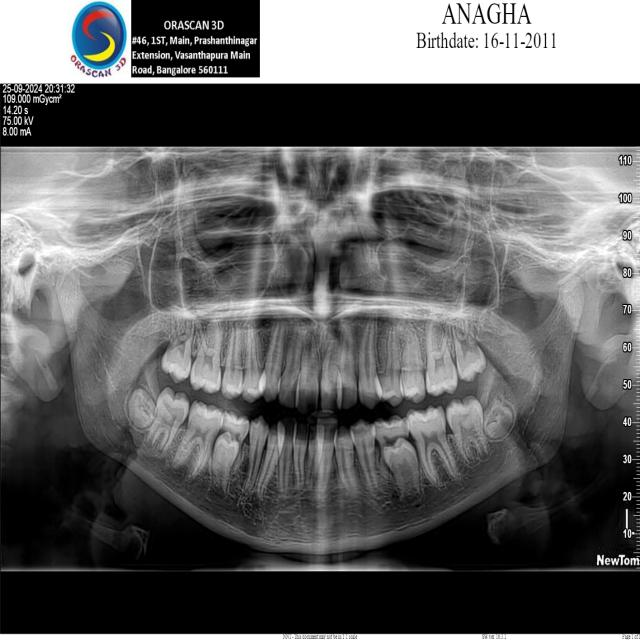Premolars: (350, 419, 376, 501), (372, 416, 412, 458)
